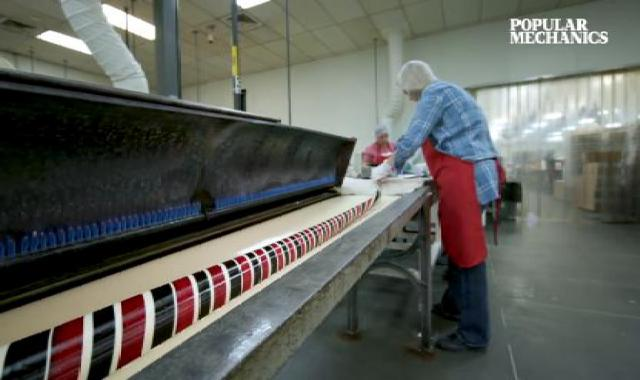hairnet: (396, 58, 442, 98)
